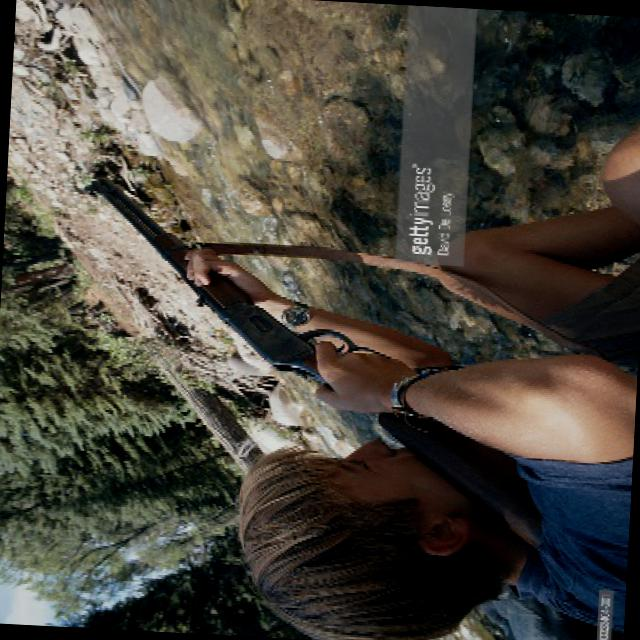long weapon: (66, 175, 568, 560)
